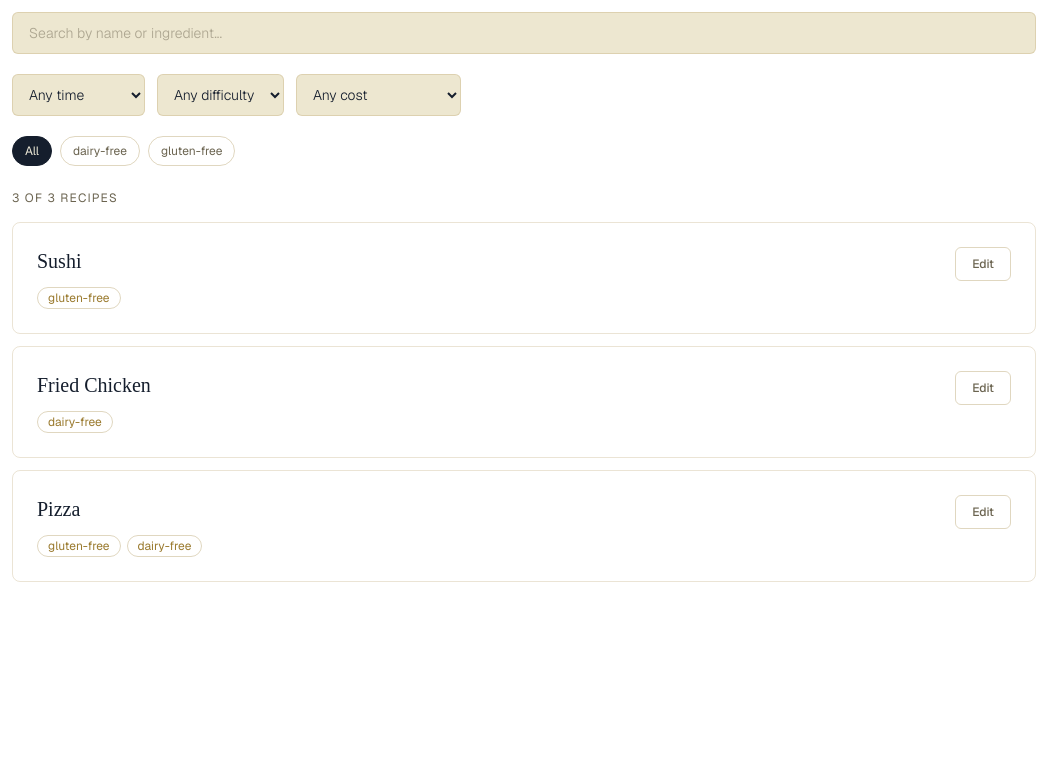
RecipeListClient › restores the full recipe list when the 'All' tag is selected
This screenshot has width=1048, height=780.
What coordinates should you click on to do the following:
click the button "dairy-free"
I would click on:
 (100, 151)
Its box is 60,136 -> 140,166.
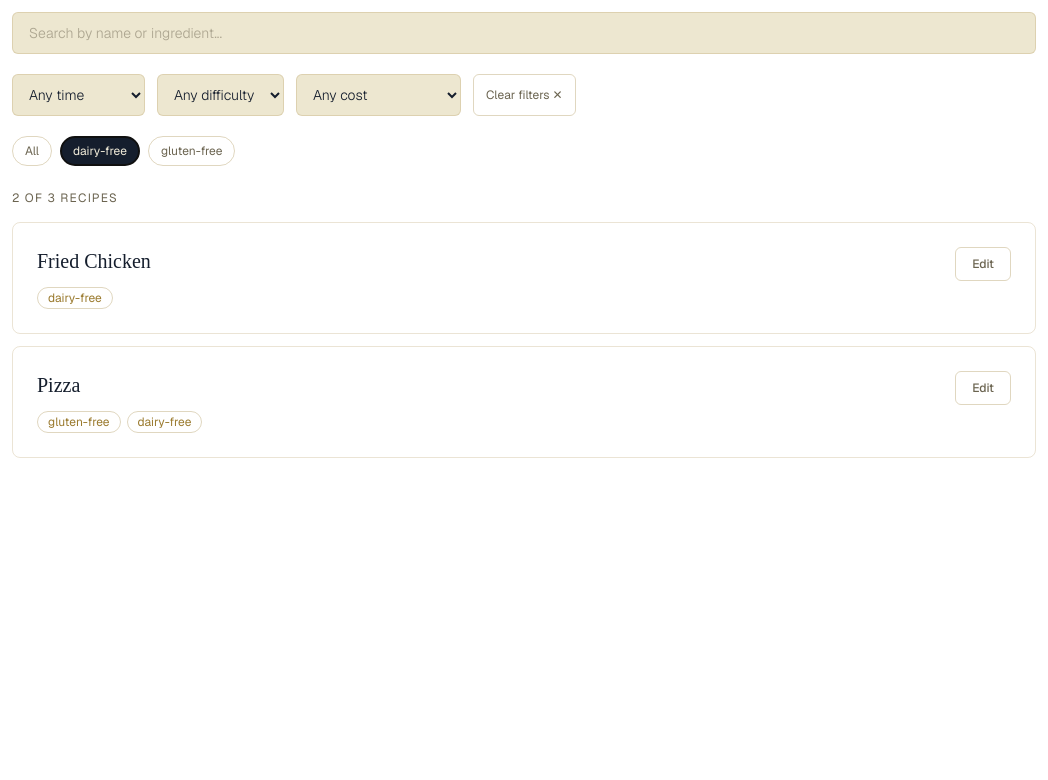
expect the text "2 of 3 recipes" is shown: met, box 12,190 -> 118,206
What coordinates should you click on to do the following:
click the button "All"
I would click on:
 (32, 151)
Its box is 12,136 -> 52,166.
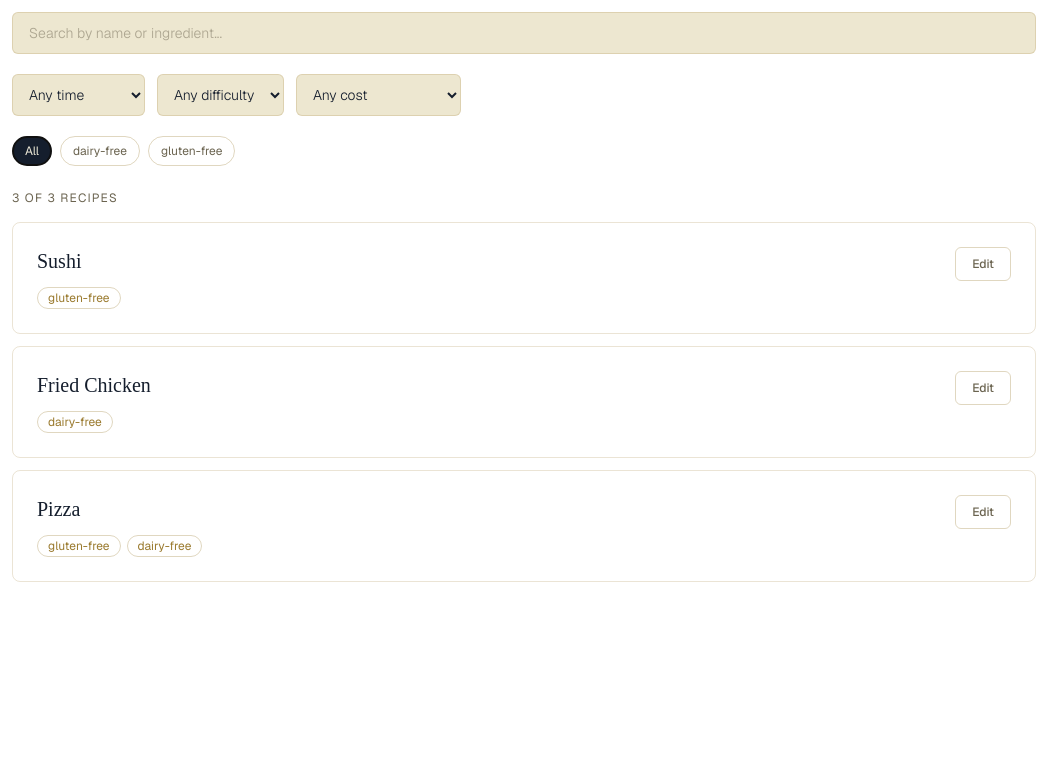
expect the heading "Fried Chicken" is shown: met, box 37,374 -> 151,396
expect the heading "Sushi" is shown: met, box 37,250 -> 82,272
expect the text "3 of 3 recipes" is shown: met, box 12,190 -> 118,206
